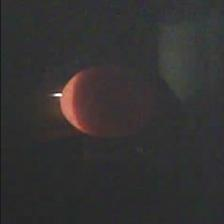fertile: (58, 62, 160, 138)
